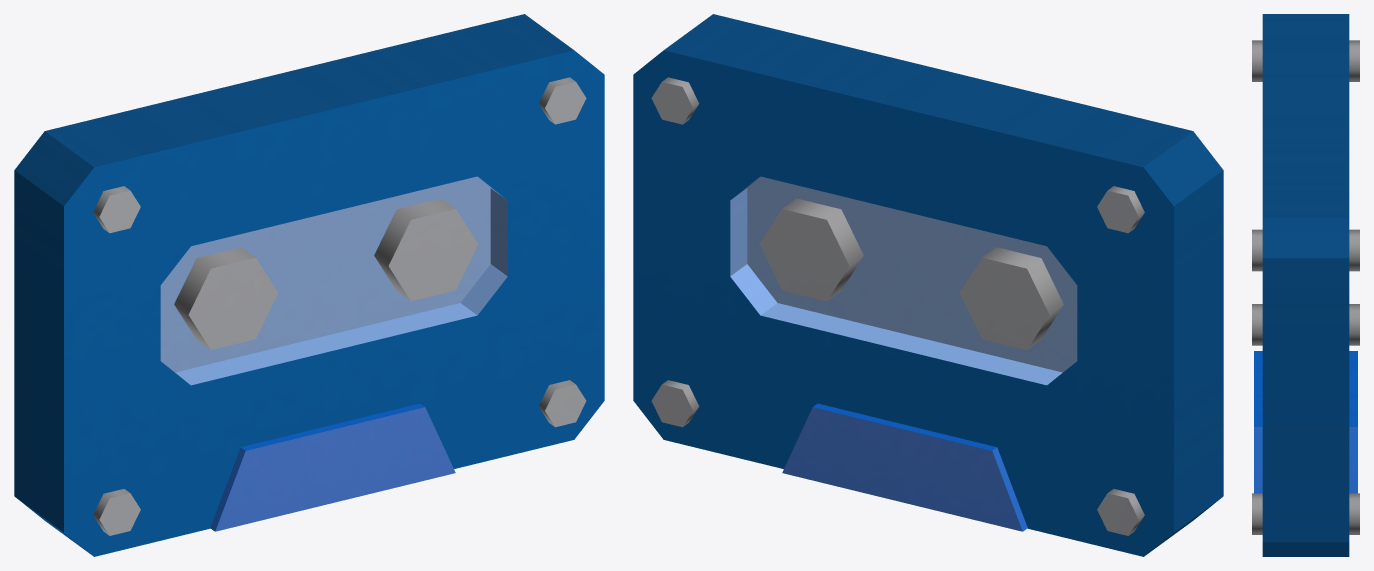
Rendered from SM_Cassete.fbx.
The picture shows the model from 3 angles, left to right: view 1: azimuth 30°, elevation 25°; view 2: azimuth 150°, elevation 25°; view 3: azimuth 270°, elevation 25°; orthographic projection. The views are drawn at different scales.
Parts seen in each view (by area): view 1: SM_Cassete; view 2: SM_Cassete; view 3: SM_Cassete.
Boxes of the visible parts, x1=… form: SM_Cassete: x1=14, y1=14, x2=604, y2=556; SM_Cassete: x1=633, y1=14, x2=1223, y2=556; SM_Cassete: x1=1252, y1=14, x2=1359, y2=556.
Bounding box in the file's own units: 24.73 × 17.03 × 4.92.
